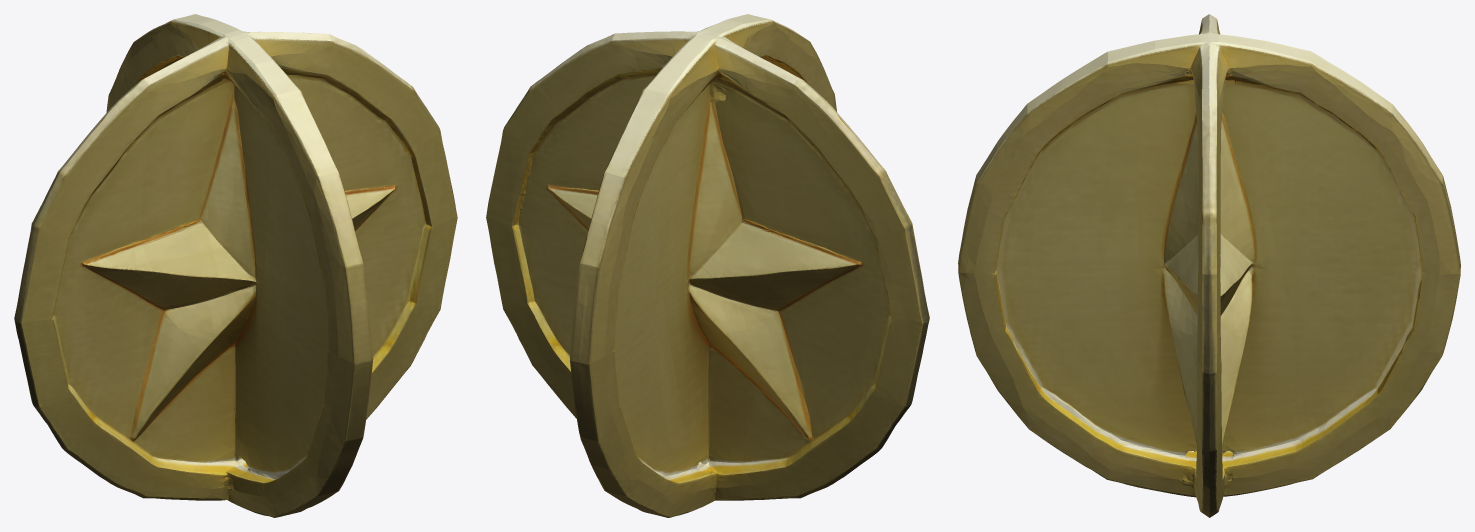
File: gold-coin.glb
3 renders of one model, left to right at view 1: azimuth 30°, elevation 25°; view 2: azimuth 150°, elevation 25°; view 3: azimuth 270°, elevation 25°, orthographic.
Visible parts, largest first — view 1: world; view 2: world; view 3: world.
Part boxes in pixels (box(x1,y1,x2,y2)): world: box(14, 14, 457, 517); world: box(486, 14, 929, 517); world: box(958, 14, 1460, 517).
Size of the model in its own units: 1 by 1 by 1.
Materials: 1 (1 with a texture image).
